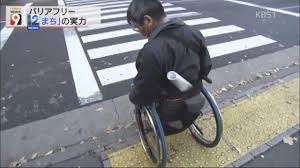guide_blocks: (108, 120, 226, 168), (220, 96, 300, 156)
